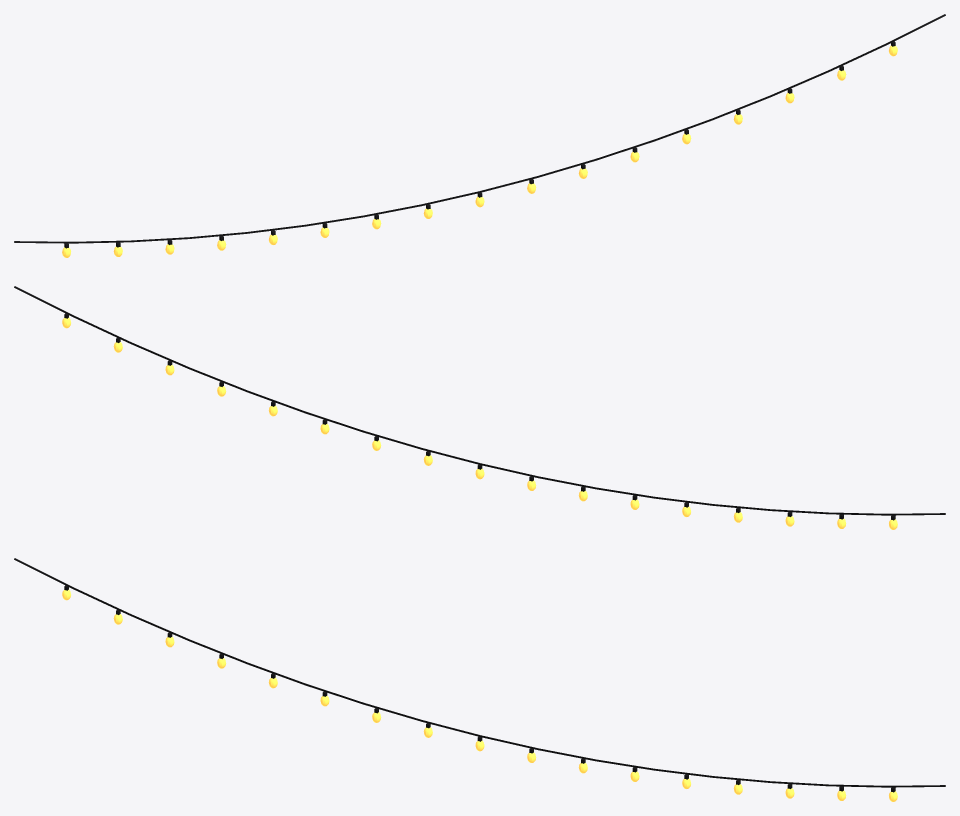
Rendered from string_lights.glb.
3 views of the same model, one above another, from view 1: azimuth 30°, elevation 25°; view 2: azimuth 150°, elevation 25°; view 3: azimuth 330°, elevation 25° (orthographic).
Visible parts, largest first — view 1: StringLights; view 2: StringLights; view 3: StringLights.
Boxes of the visible parts, x1=… form: StringLights: x1=14, y1=14, x2=945, y2=257; StringLights: x1=14, y1=286, x2=945, y2=529; StringLights: x1=14, y1=558, x2=945, y2=801.
Bounding box in the file's own units: 9.21 × 0.749 × 0.08.
